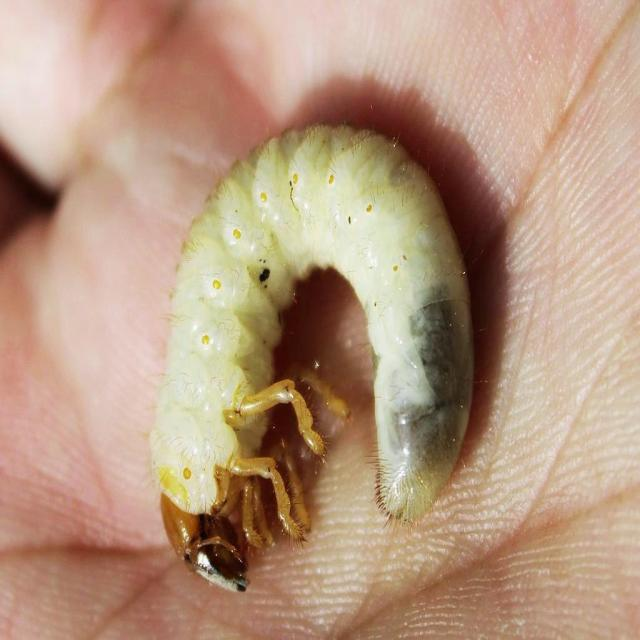grub: (151, 109, 503, 598)
